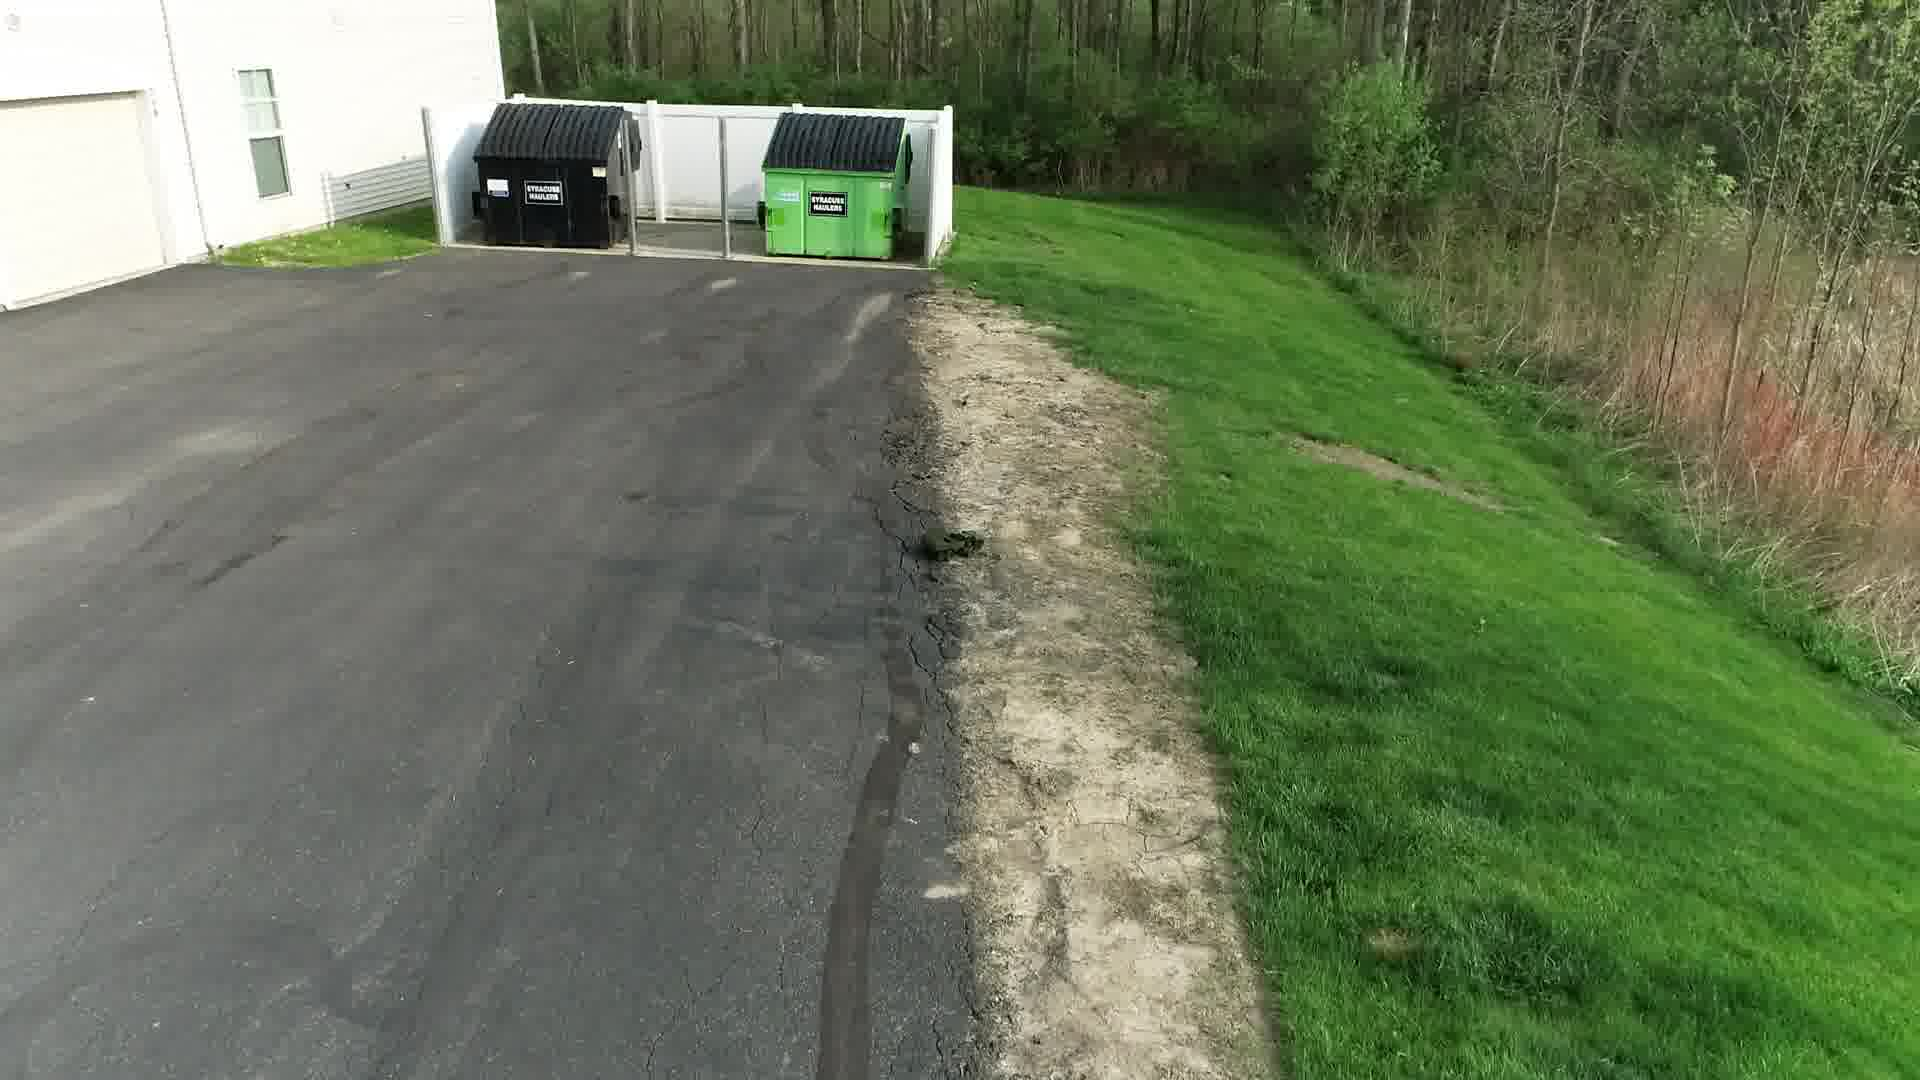transporter9: (923, 529, 984, 563)
